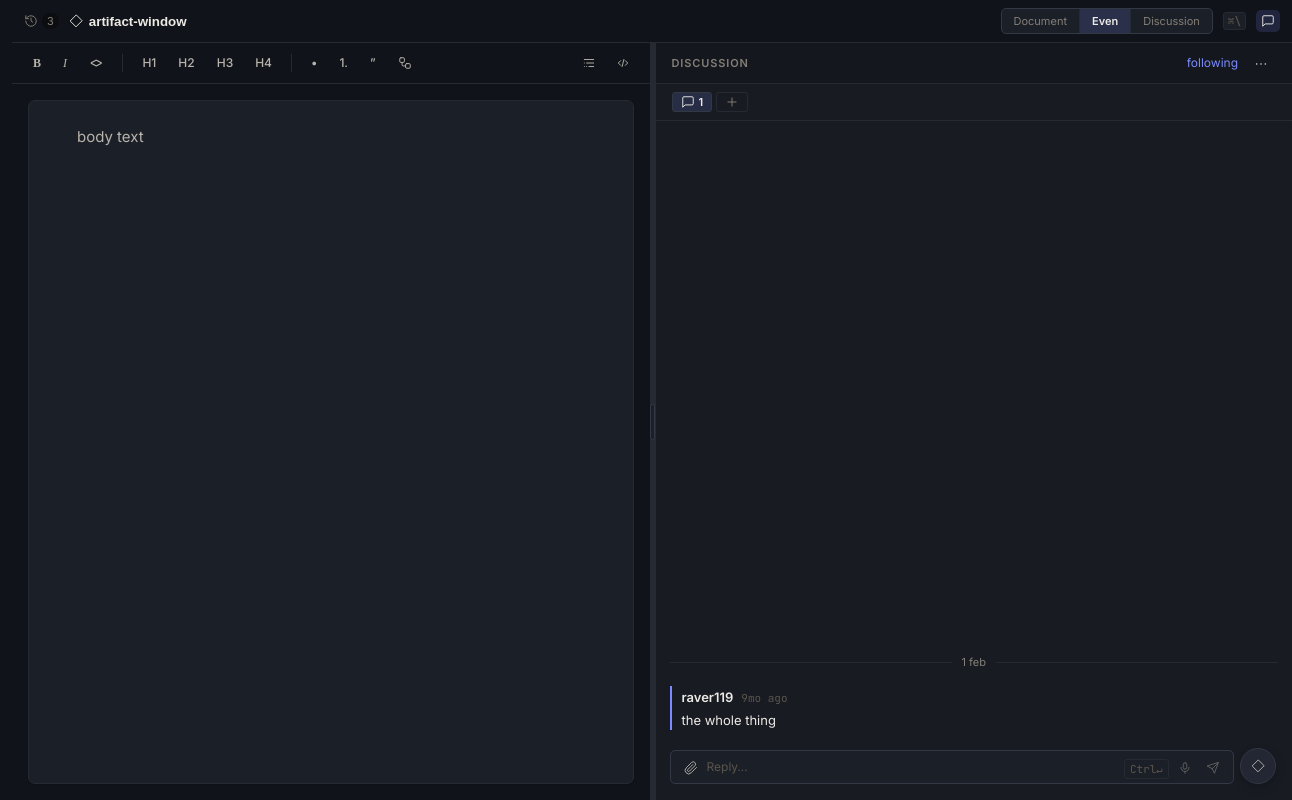
Test case: New Artifact discussions (NAW-FR-31 … NAW-FR-34, CMT-FR-52 … CMT-FR-55) › CMT-FR-52, CMT-FR-54, CMT-FR-55, DDS-FR-KTVW: the discussion is read once and survives what the page is showing
What coordinates should you click on to do the following:
click the button named "Show History"
I would click on:
 (41, 21)
Its box is [24,13,59,29].
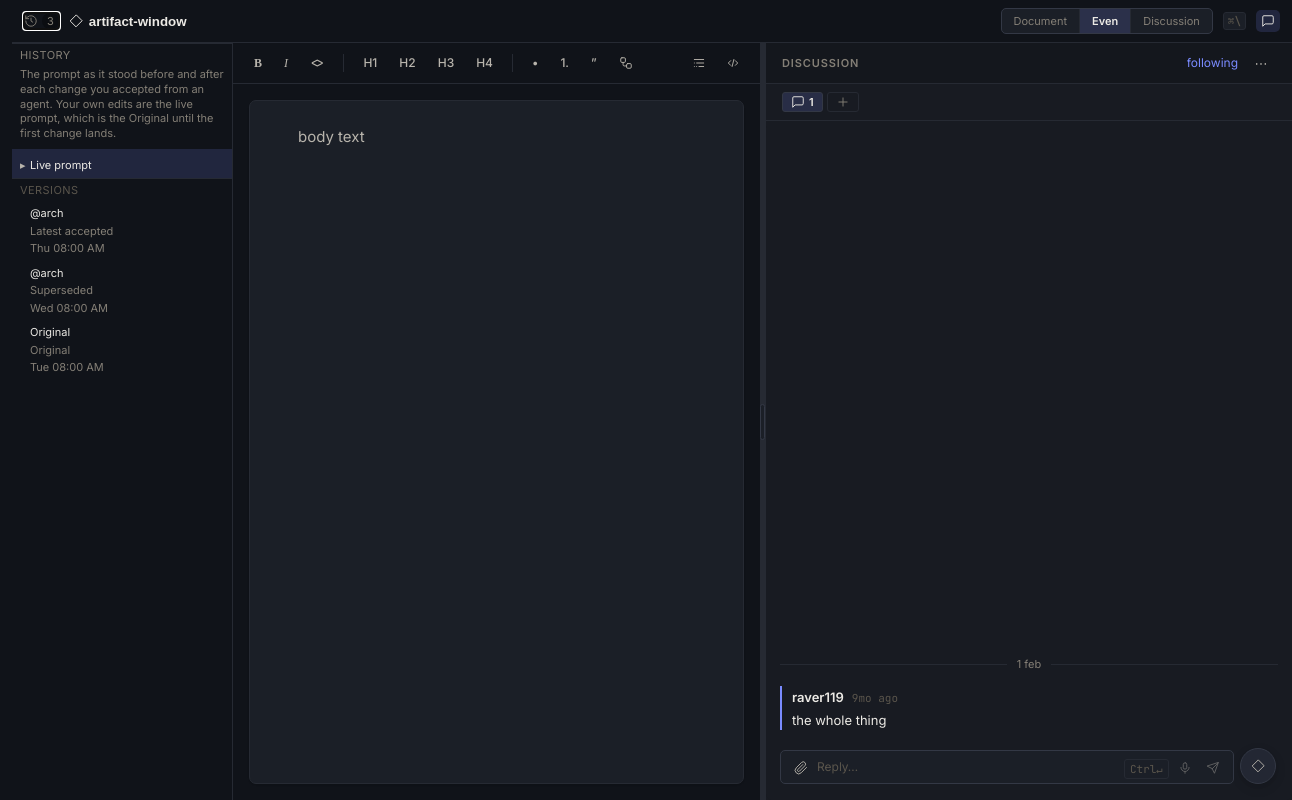
What coordinates should you click on to do the following:
click the button with class "draft-version" that starts with "@arch"
I would click on:
 (122, 231)
Its box is [12,201,232,261].
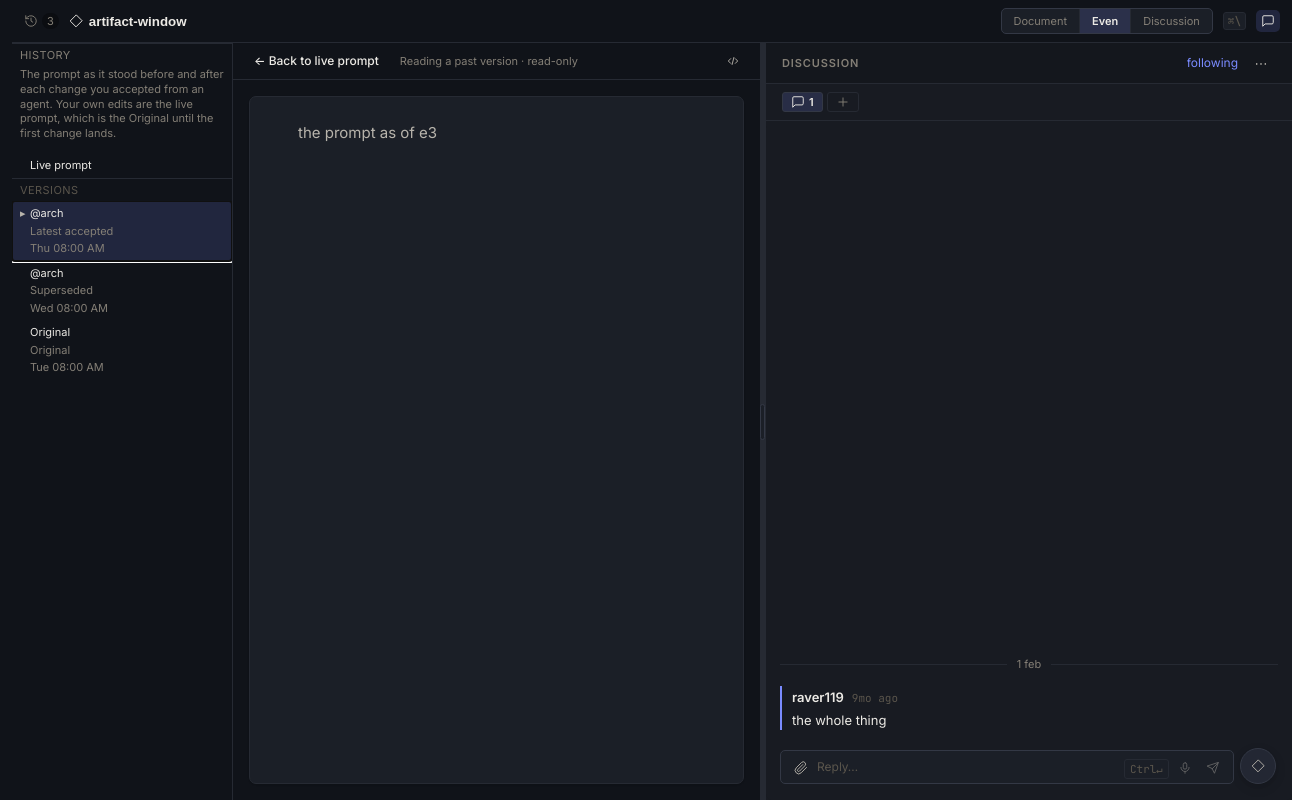
Expected: the element with test id "comment-thread-disc-1" is shown, [766,121,1291,799]
Expected: the element with test id "draft-version-reading" is shown, [298,123,437,142]
